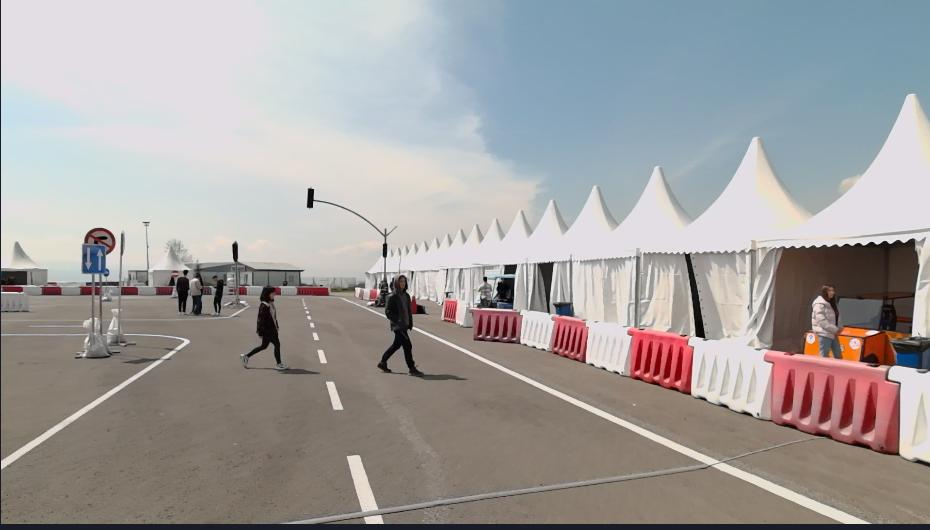nesne: (0, 294, 874, 523), (296, 297, 871, 529), (415, 327, 872, 524), (0, 296, 387, 522), (468, 310, 929, 462), (2, 333, 192, 471), (770, 352, 899, 454), (798, 281, 915, 369), (689, 337, 774, 418), (376, 271, 424, 377), (890, 366, 930, 469), (626, 329, 691, 390), (242, 285, 290, 367), (315, 198, 397, 241), (581, 323, 635, 374), (347, 452, 384, 525), (811, 276, 844, 356), (131, 300, 248, 319), (471, 303, 521, 344), (544, 317, 588, 359), (519, 310, 554, 348), (81, 318, 112, 357), (892, 335, 928, 367), (104, 308, 135, 345), (0, 283, 90, 295), (82, 225, 116, 255), (439, 296, 474, 325), (492, 273, 516, 309), (340, 296, 382, 316), (116, 230, 123, 342), (188, 274, 205, 315), (79, 246, 104, 273), (273, 284, 329, 296), (120, 282, 175, 294), (325, 377, 344, 410), (476, 274, 494, 308), (1, 291, 29, 312), (455, 301, 474, 327), (212, 275, 224, 314), (438, 298, 456, 324), (177, 270, 188, 311), (377, 277, 390, 307), (240, 285, 264, 299), (142, 220, 149, 268), (97, 274, 102, 337), (296, 285, 328, 294), (554, 302, 574, 316), (352, 288, 377, 298), (91, 273, 95, 333), (40, 286, 62, 296), (60, 285, 81, 295), (408, 294, 418, 315), (230, 240, 240, 261), (279, 284, 296, 295), (121, 286, 139, 296), (155, 284, 173, 294), (138, 284, 154, 295), (24, 286, 43, 295), (306, 186, 314, 207), (102, 286, 117, 297), (317, 347, 328, 362), (248, 285, 261, 296), (80, 286, 92, 297), (234, 260, 237, 303), (3, 286, 24, 292), (370, 289, 381, 298), (238, 285, 248, 294), (388, 274, 393, 291), (382, 241, 387, 257), (353, 288, 361, 298), (362, 289, 370, 299), (273, 285, 279, 296), (312, 331, 320, 339), (383, 260, 387, 275), (310, 321, 317, 329), (360, 289, 363, 298)
